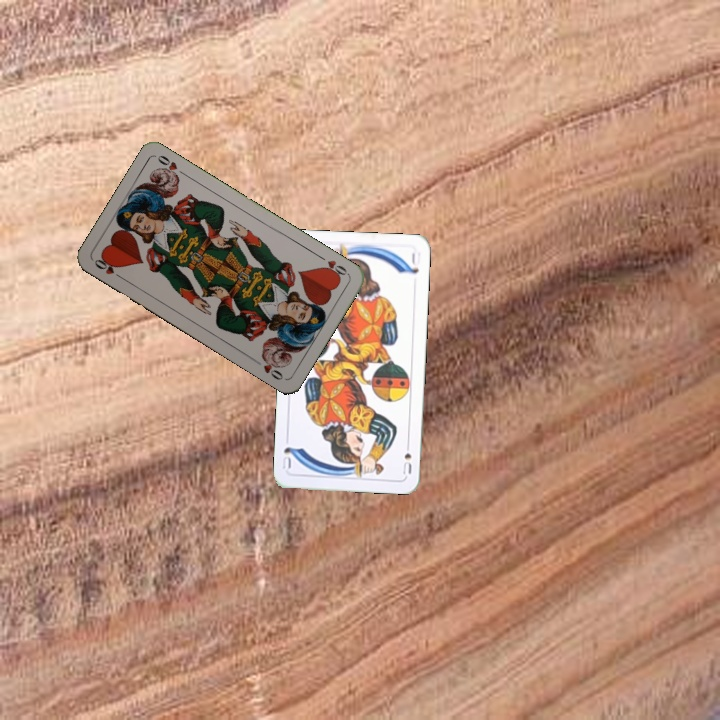HO: (314, 251, 351, 281), (90, 253, 126, 282)
SU: (399, 437, 414, 477)
